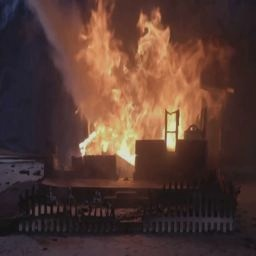fire: (58, 2, 228, 166)
